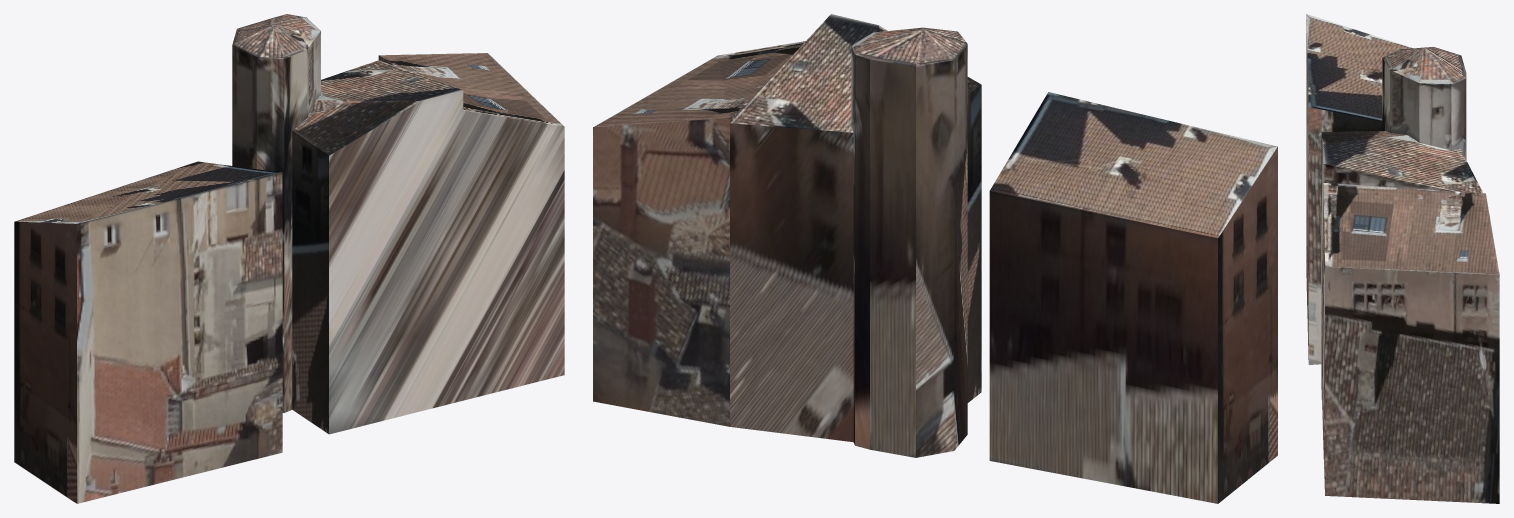
The picture shows the model from 3 angles, left to right: view 1: azimuth 30°, elevation 25°; view 2: azimuth 150°, elevation 25°; view 3: azimuth 270°, elevation 25°; orthographic projection. The views are drawn at different scales.
Parts seen in each view (by area): view 1: Z_UP; view 2: Z_UP; view 3: Z_UP.
Part boxes in pixels (x1,y1,x2,y2): Z_UP: [14, 14, 564, 503]; Z_UP: [593, 14, 1277, 503]; Z_UP: [1306, 14, 1499, 503].
Bounding box in the file's own units: 34.51 × 23.45 × 12.06.
2 materials, 1 textured.
